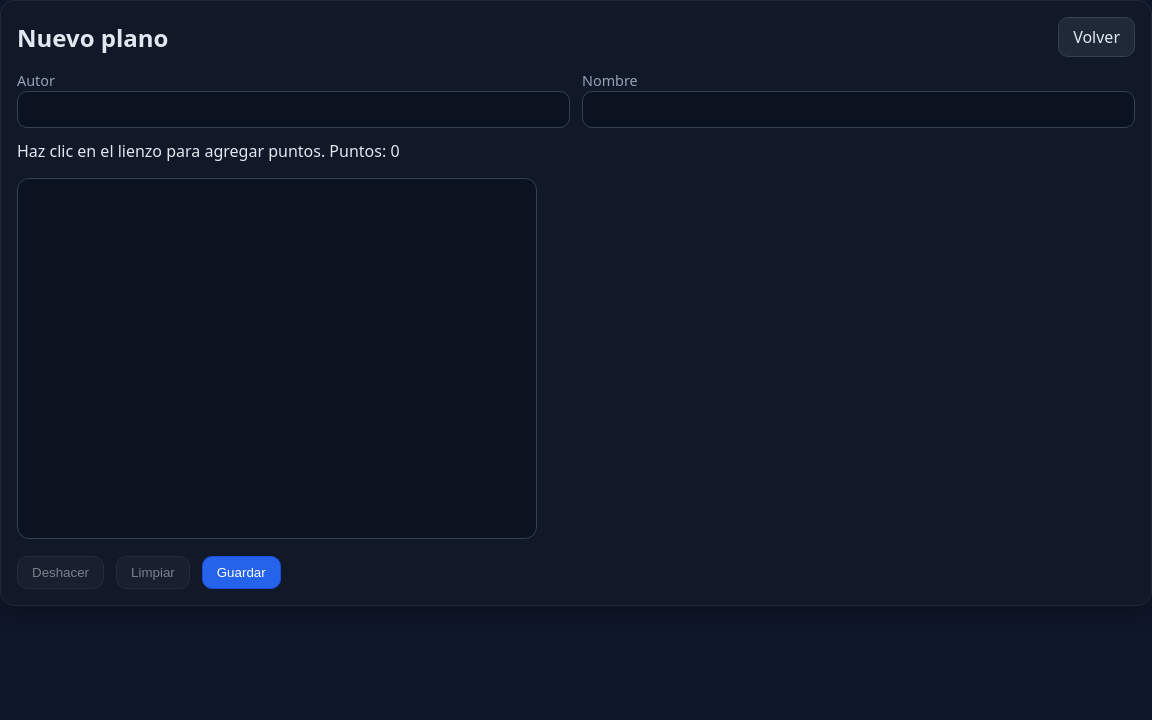
Test case: Editor de planos › no deja guardar sin puntos
The width and height of the screenshot is (1152, 720).
Type "Ana" into the field labelled "Autor" at (294, 110), box [17,91,570,128]
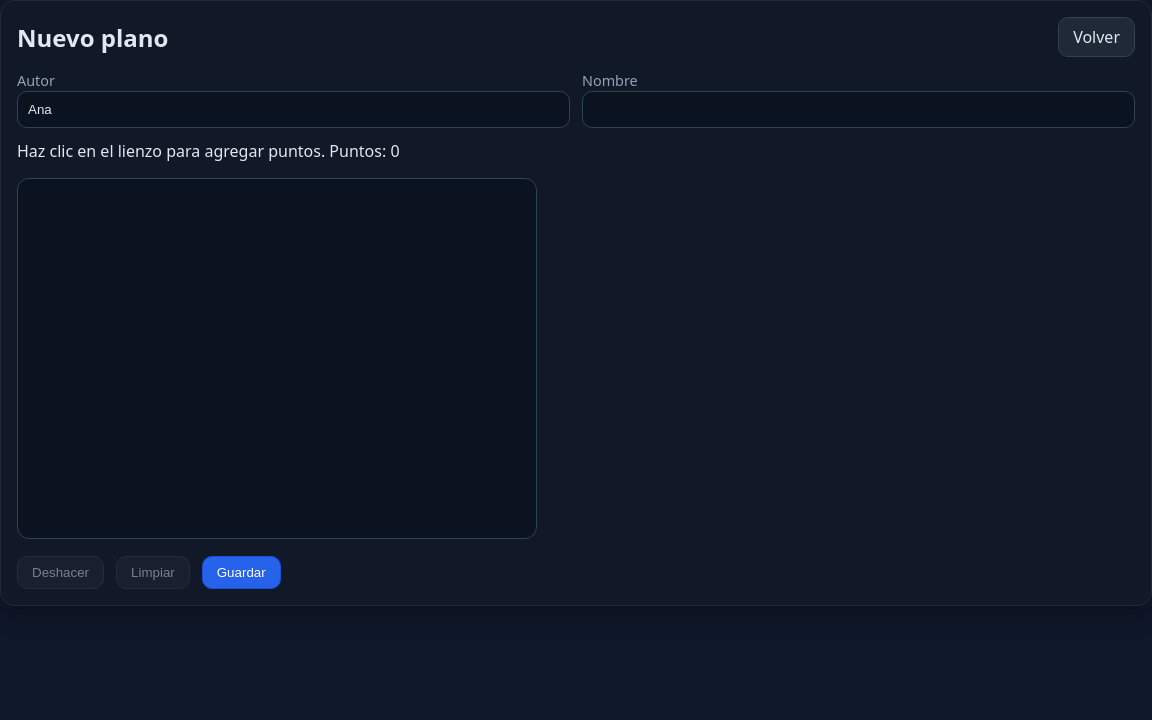
Type "casa" into the field labelled "Nombre" at (858, 110), box [582,91,1135,128]
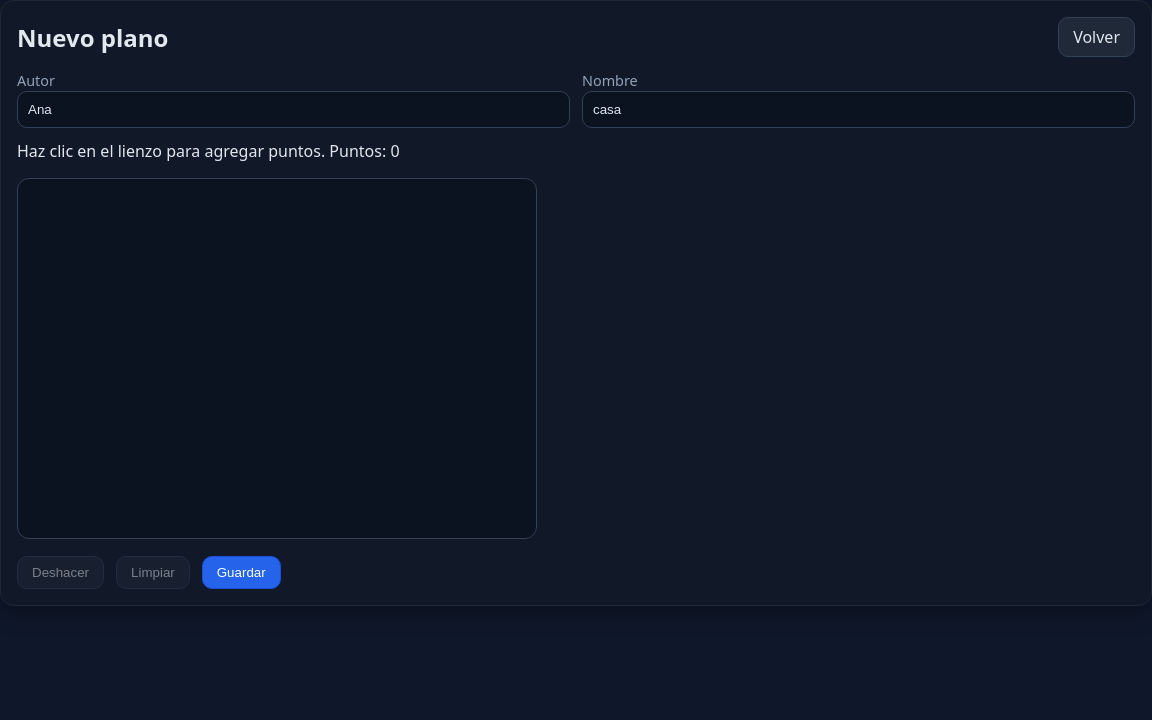
Click the button "Guardar" at (241, 572), box [202,556,281,589]
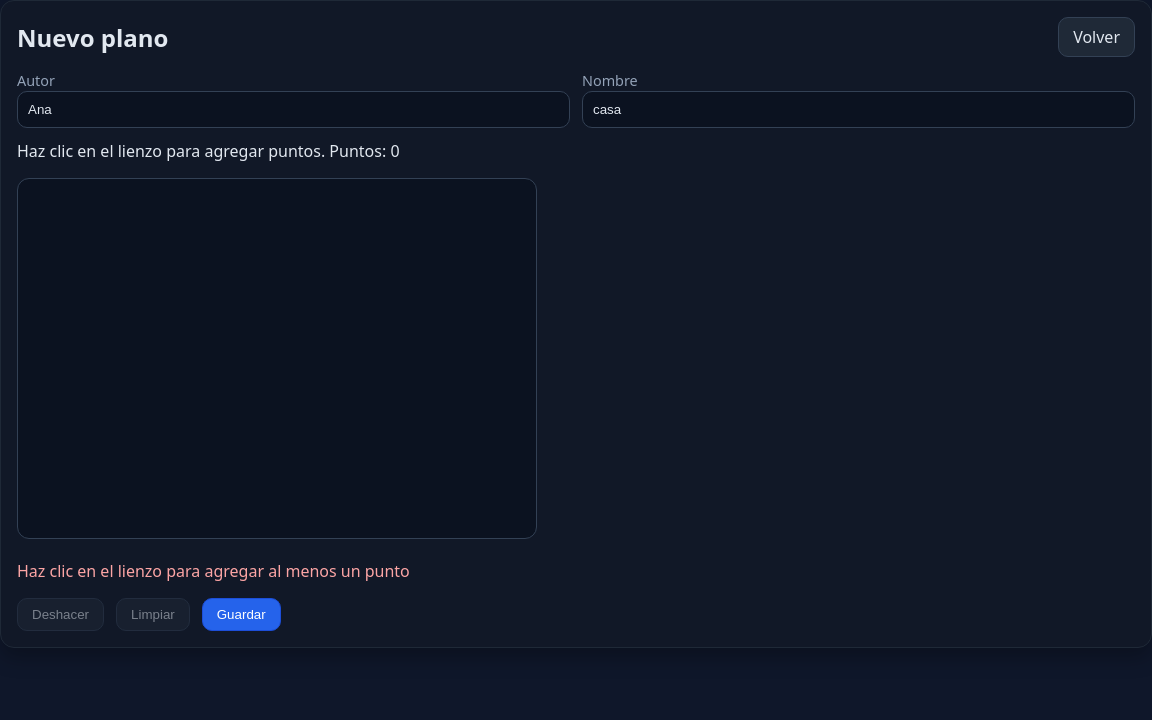
Check: the text "Haz clic en el lienzo para agregar al menos un punto" is shown, box [17,560,410,582]
